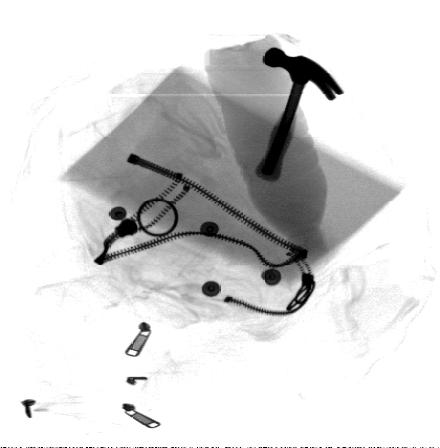Hammer: (254, 46, 345, 183)
